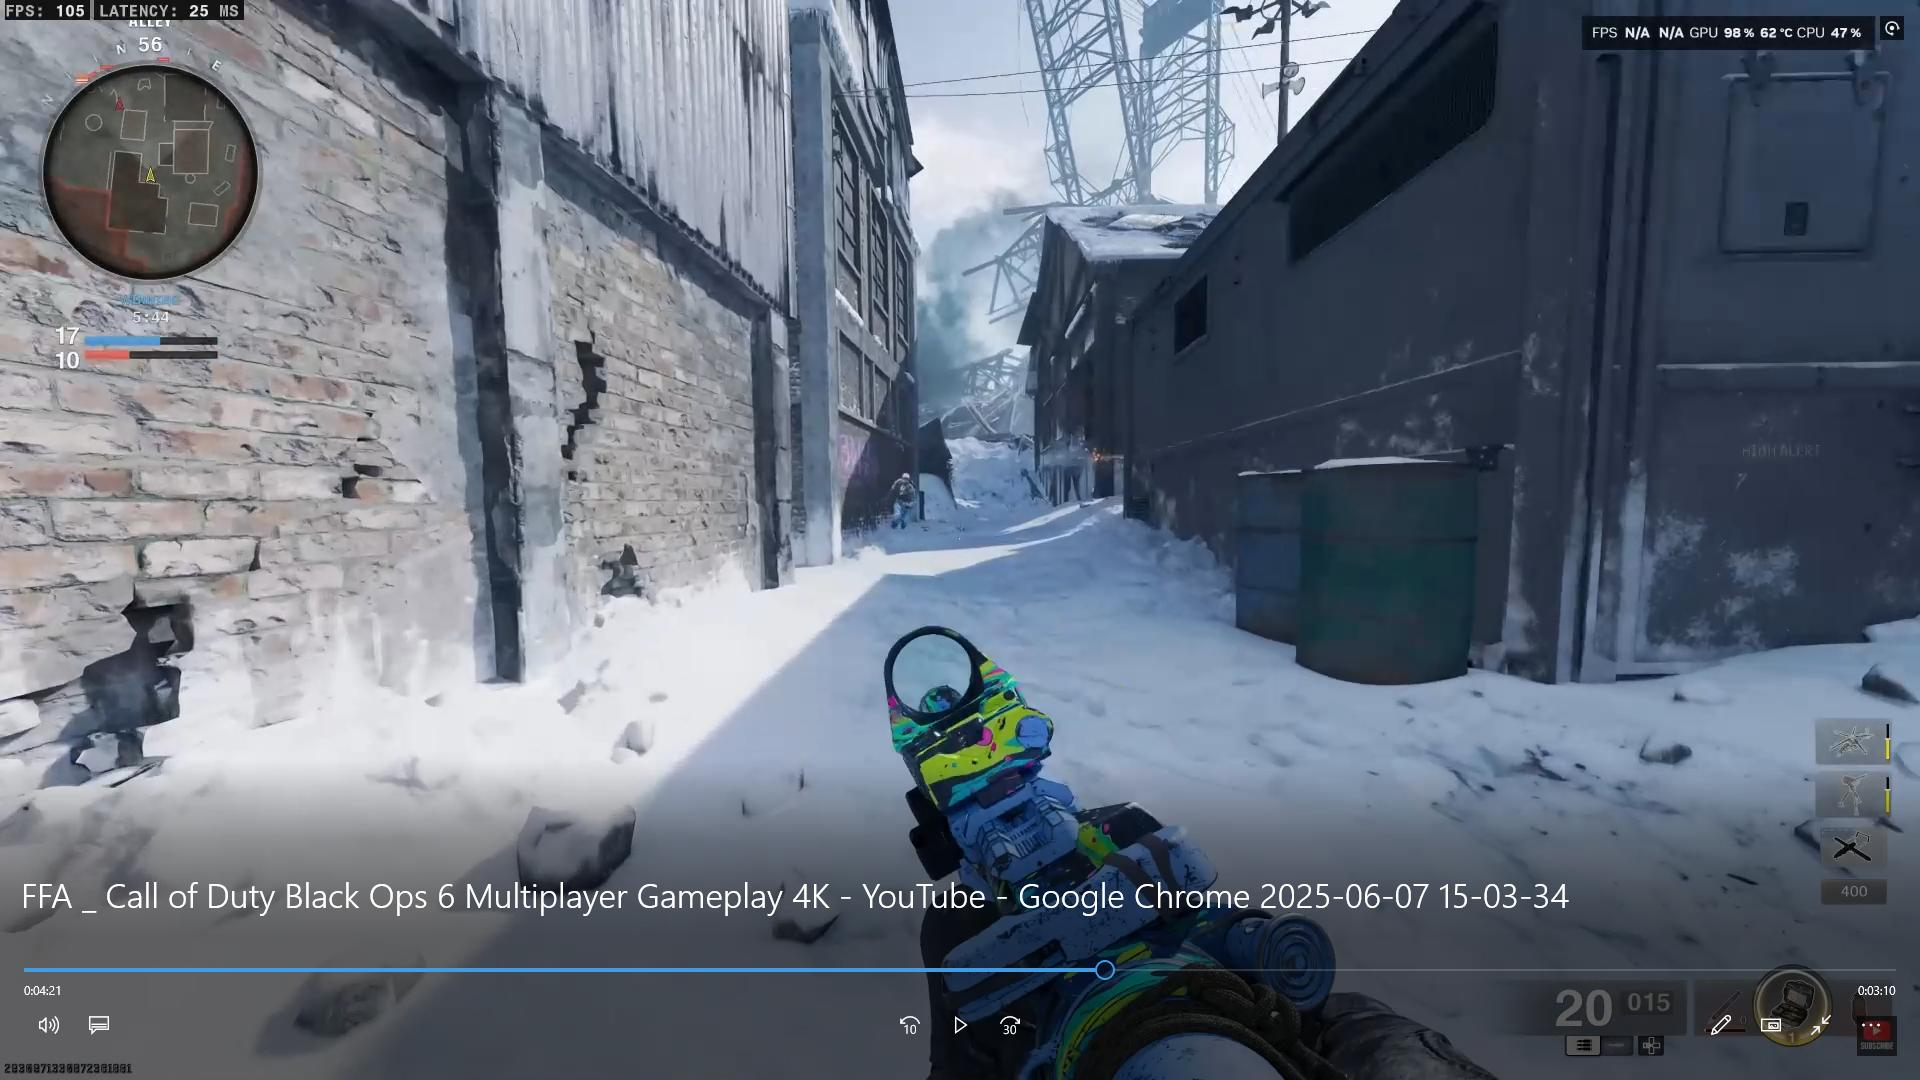Enemy: (880, 462, 923, 534)
